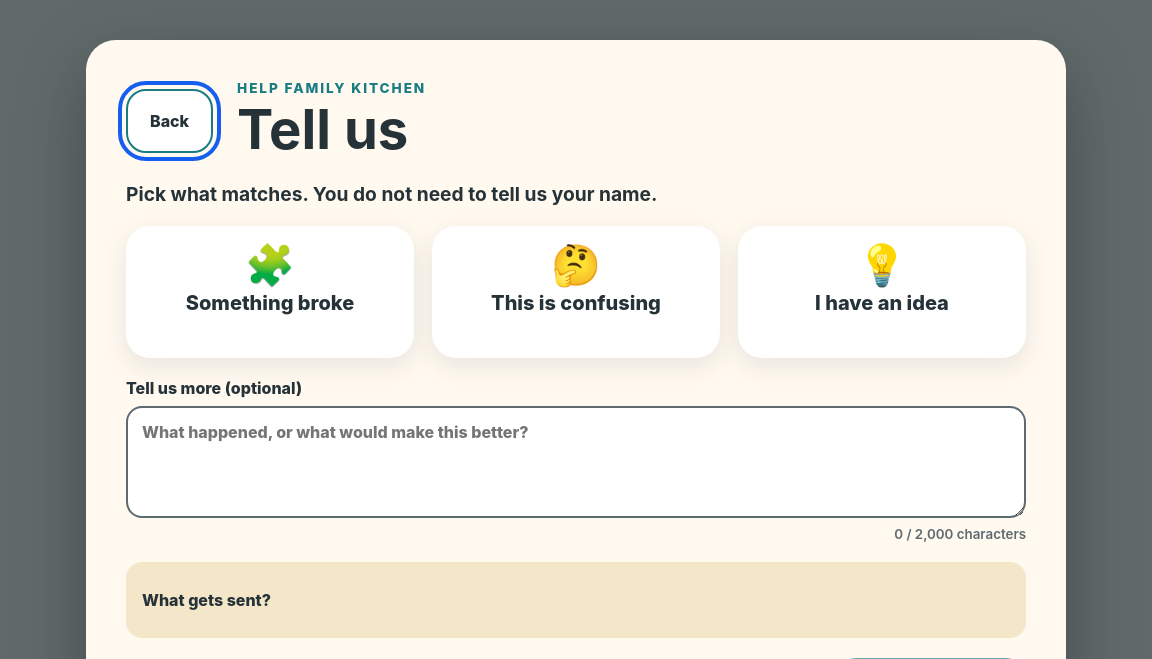
dashboard feedback screen › submits a choice without text and shows only an honest acknowledgement
The width and height of the screenshot is (1152, 659).
Click the button "🧩 Something broke" at (270, 292), box x1=126 y1=226 x2=414 y2=358
(page scrolled)
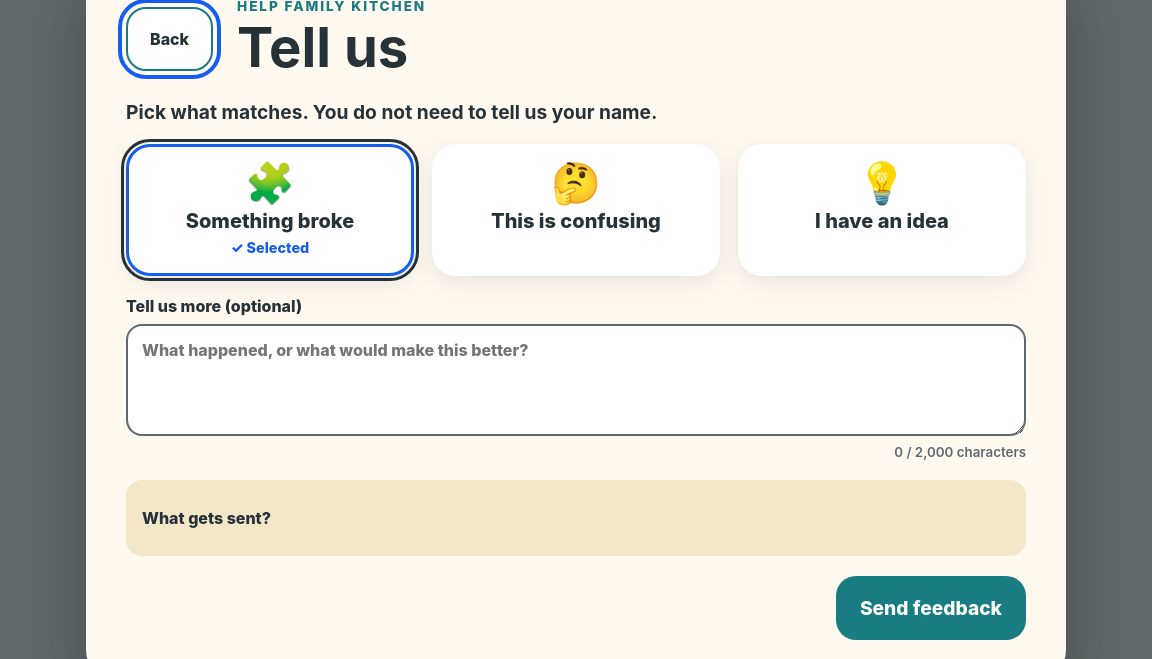
Click the button "Send feedback" at (931, 608), box x1=836 y1=576 x2=1026 y2=640
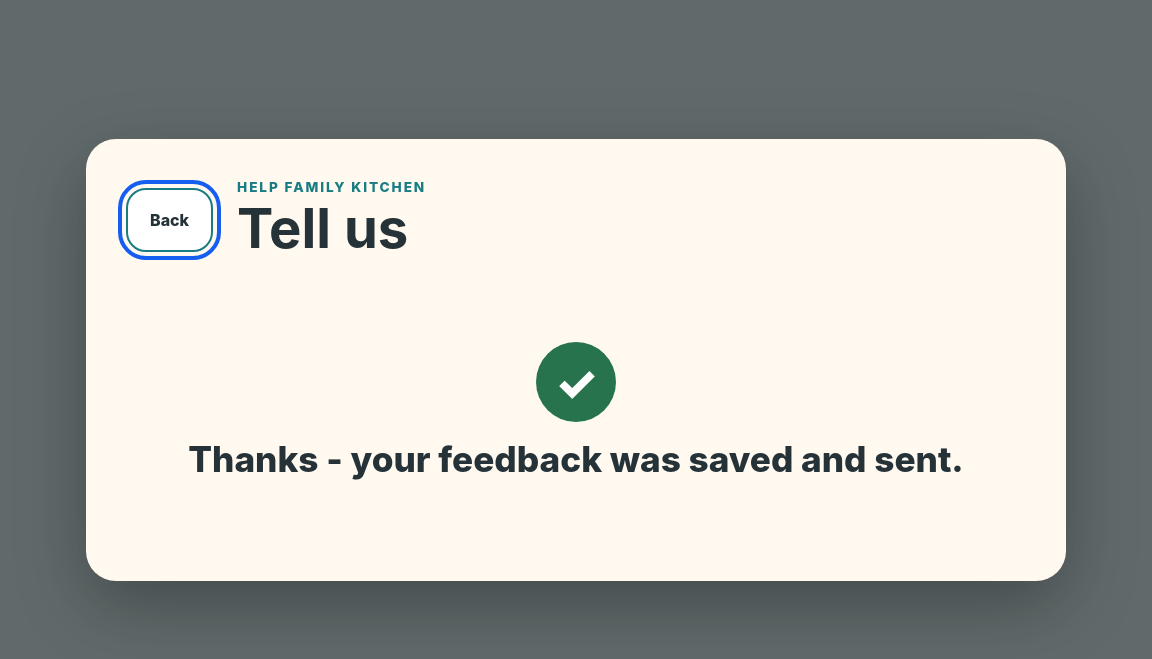
Expected: the text "Thanks - your feedback was saved and sent." is shown, x1=188 y1=438 x2=964 y2=480
